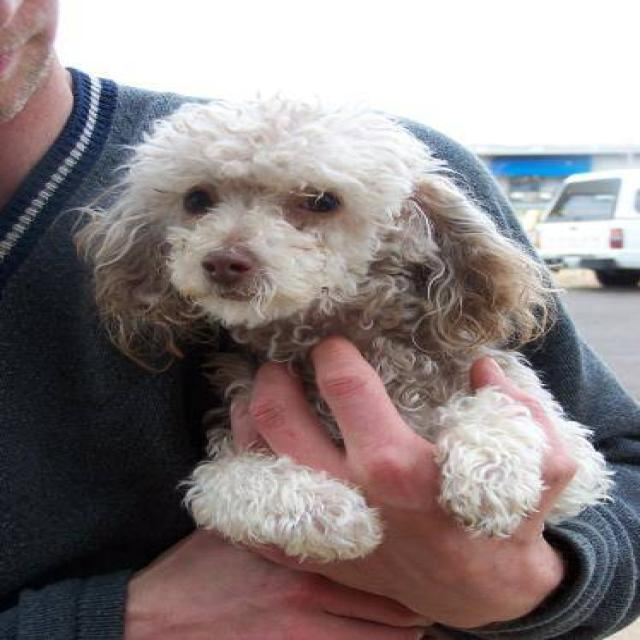dog: (56, 91, 618, 564)
